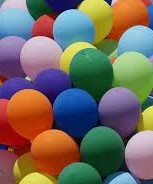Balloon: (7, 89, 55, 137), (31, 129, 80, 171), (80, 126, 124, 172), (53, 88, 98, 132), (112, 51, 153, 99), (69, 48, 114, 91), (98, 87, 141, 131), (53, 8, 95, 47), (20, 36, 60, 76), (124, 130, 153, 178), (117, 25, 153, 55)
